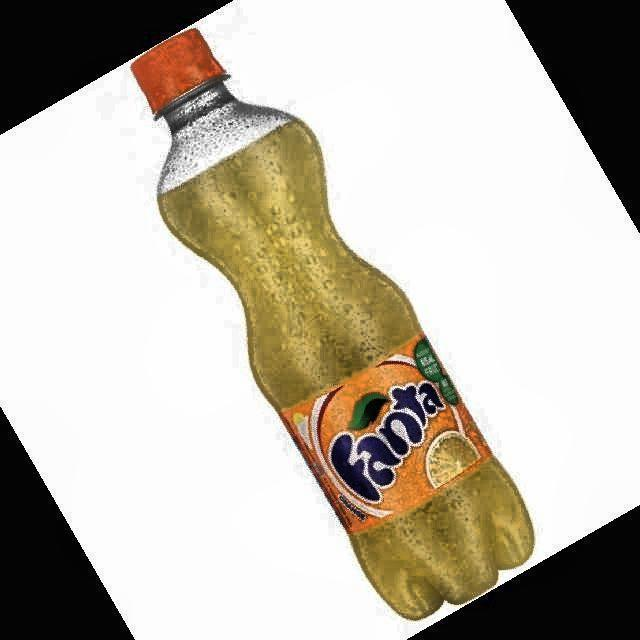plastic: (131, 29, 534, 619)
